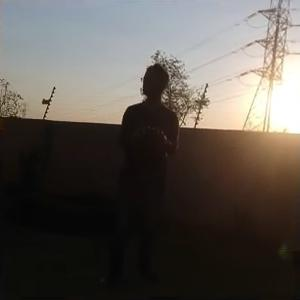follow: (93, 59, 184, 286)
